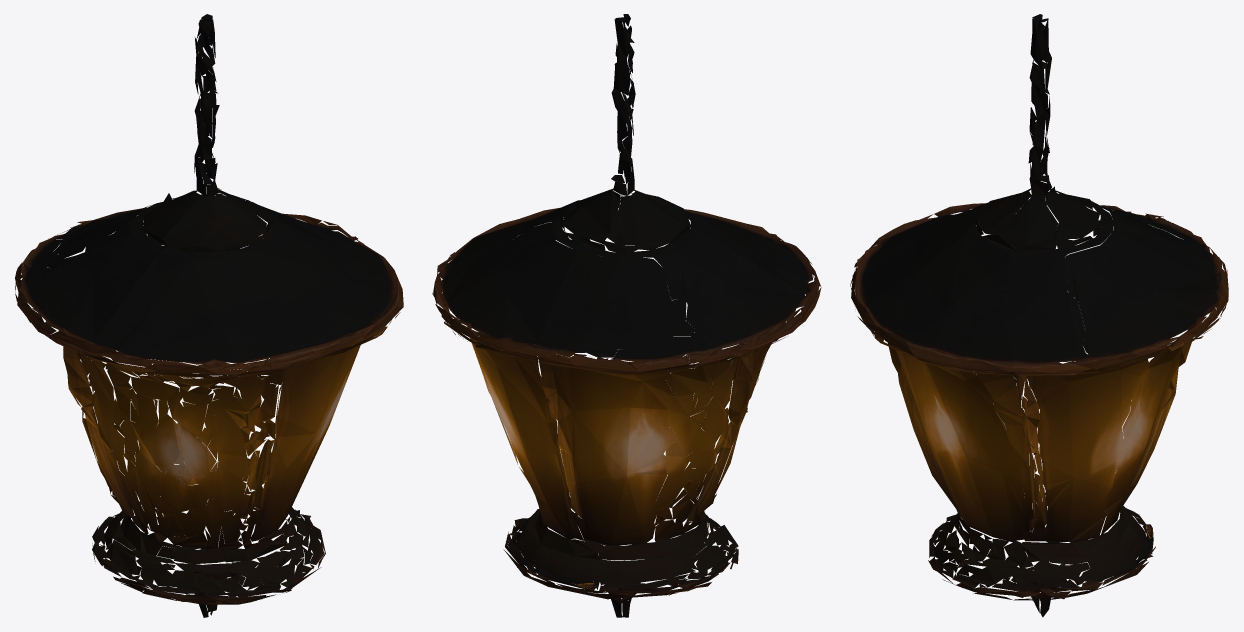
The model's file is lamppost.glb.
3 renders of one model, left to right at view 1: azimuth 30°, elevation 25°; view 2: azimuth 150°, elevation 25°; view 3: azimuth 270°, elevation 25°, orthographic.
Visible parts, largest first — view 1: textured_mesh.obj; view 2: textured_mesh.obj; view 3: textured_mesh.obj.
Part boxes in pixels (x1,y1,x2,y2): textured_mesh.obj: [15, 14, 403, 617]; textured_mesh.obj: [432, 14, 821, 617]; textured_mesh.obj: [850, 14, 1228, 617].
Bounding box in the file's own units: 1.17 × 1.99 × 1.14.
Materials: 1 (1 with a texture image).
